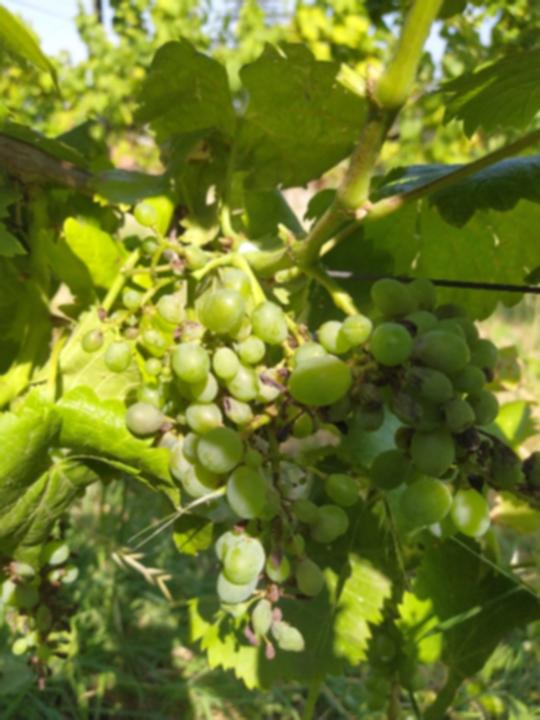grape: (78, 202, 504, 660)
